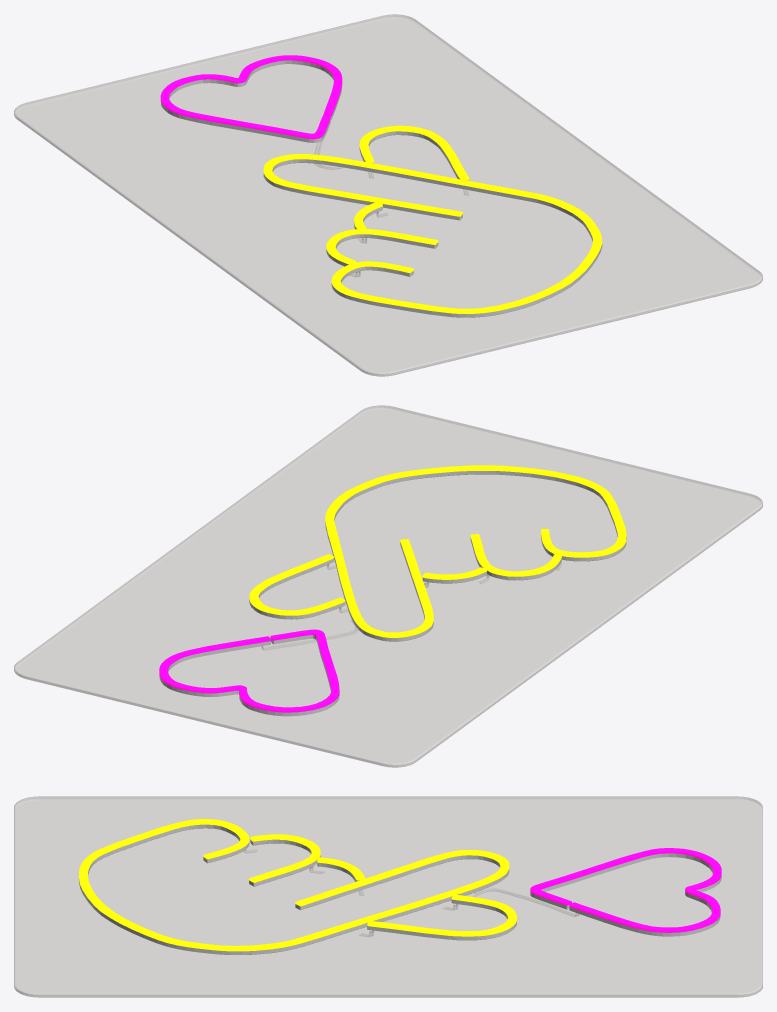
The model's file is saranghe.glb.
The picture shows the model from 3 angles, top to bottom: view 1: azimuth 30°, elevation 25°; view 2: azimuth 150°, elevation 25°; view 3: azimuth 270°, elevation 25°; orthographic projection.
Parts seen in each view (by area): view 1: Plane.003, Plane.002, Plane.004; view 2: Plane.003, Plane.002, Plane.004; view 3: Plane.003, Plane.002, Plane.004, Circle.024.
Boxes of the visible parts, x1,y1,x2,y2 form: Plane.003: (14, 14, 762, 376); Plane.002: (263, 125, 602, 317); Plane.004: (160, 55, 342, 142); Plane.003: (14, 405, 762, 767); Plane.002: (249, 465, 626, 641); Plane.004: (159, 629, 339, 716); Plane.003: (14, 796, 762, 997); Plane.002: (79, 819, 516, 954); Plane.004: (530, 848, 721, 936); Circle.024: (244, 850, 579, 936).
Size of the model in its own units: 1.15 by 0.0387 by 1.84.
